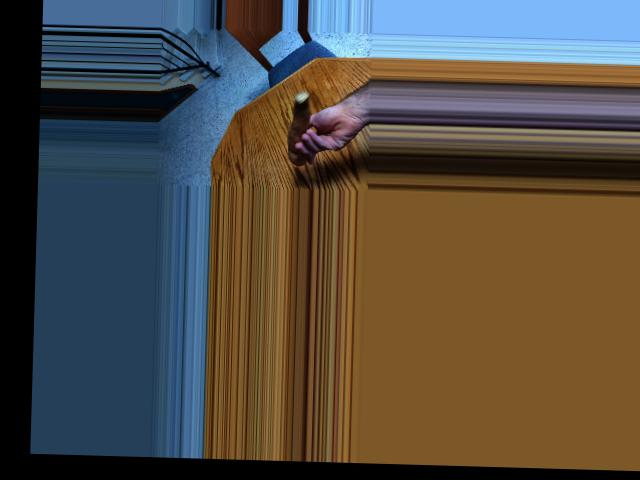sweet_potato: (286, 90, 317, 163)
